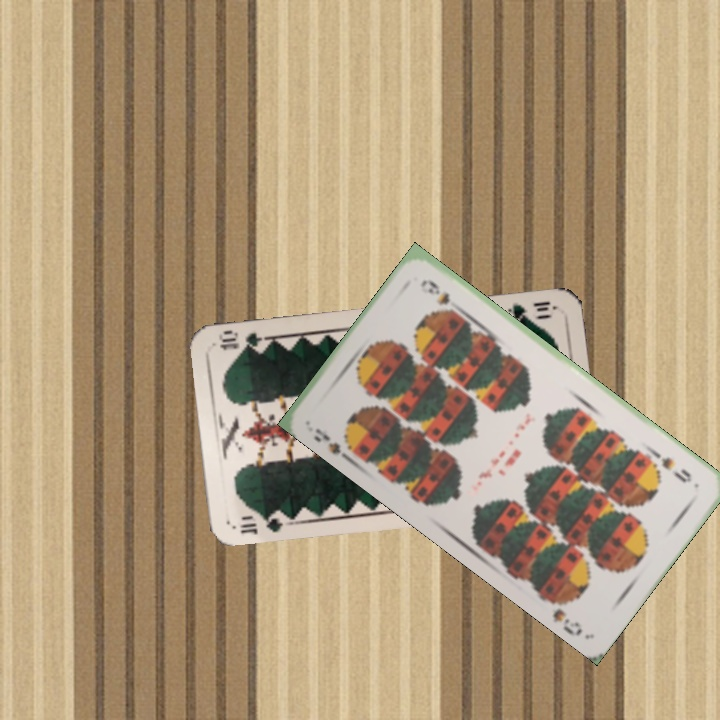G10: (503, 297, 559, 324), (236, 508, 286, 538)
S9: (309, 424, 361, 466), (646, 447, 694, 486)
